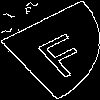F: (25, 25, 97, 80)
